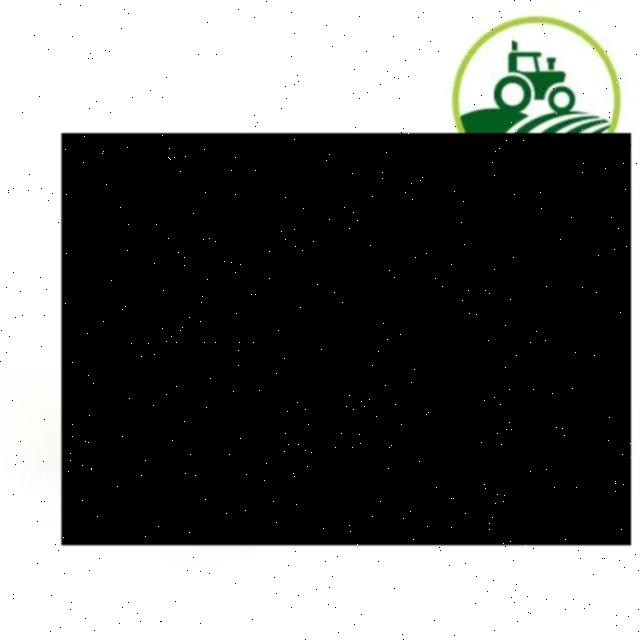Pumpkin: (62, 134, 631, 546)
